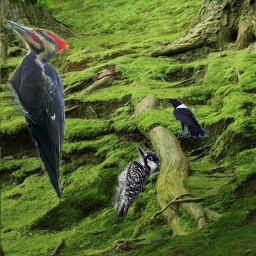Crow: (164, 98, 208, 138)
Woodpecker: (0, 18, 70, 201), (102, 144, 160, 217)
